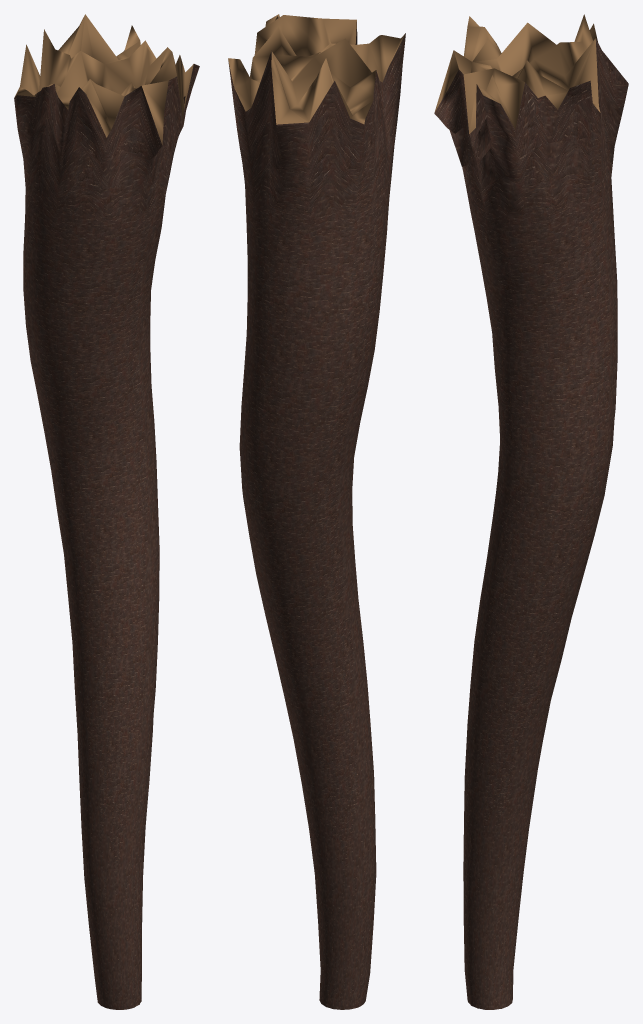
File: tree-35-club.glb
3 renders of one model, left to right at view 1: azimuth 30°, elevation 25°; view 2: azimuth 150°, elevation 25°; view 3: azimuth 270°, elevation 25°, orthographic. The views are drawn at different scales.
Visible parts, largest first — view 1: SweetBirch_Individual35_Club; view 2: SweetBirch_Individual35_Club; view 3: SweetBirch_Individual35_Club.
Part boxes in pixels (x1,y1,x2,y2): SweetBirch_Individual35_Club: [14, 14, 199, 1009]; SweetBirch_Individual35_Club: [228, 14, 405, 1009]; SweetBirch_Individual35_Club: [434, 14, 628, 1009].
Bounding box in the file's own units: 0.4227 × 2.73 × 0.4954.
Materials: 2 (1 with a texture image).
